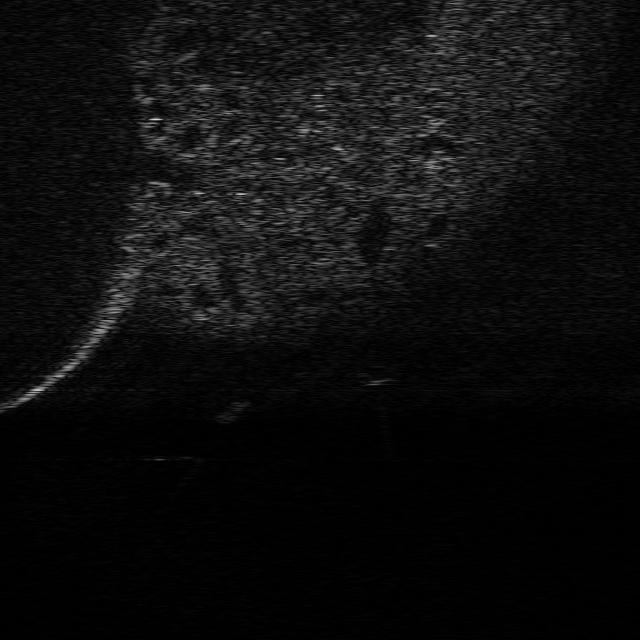cube: (357, 365, 392, 389)
cylinder: (214, 399, 246, 424)
